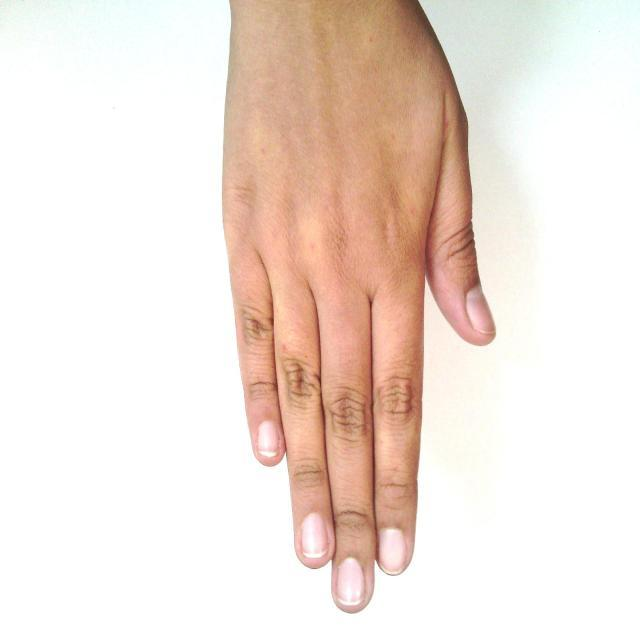Fingernail: (335, 558, 365, 605), (467, 288, 495, 334), (379, 529, 407, 573), (300, 515, 327, 557), (257, 421, 280, 456)
